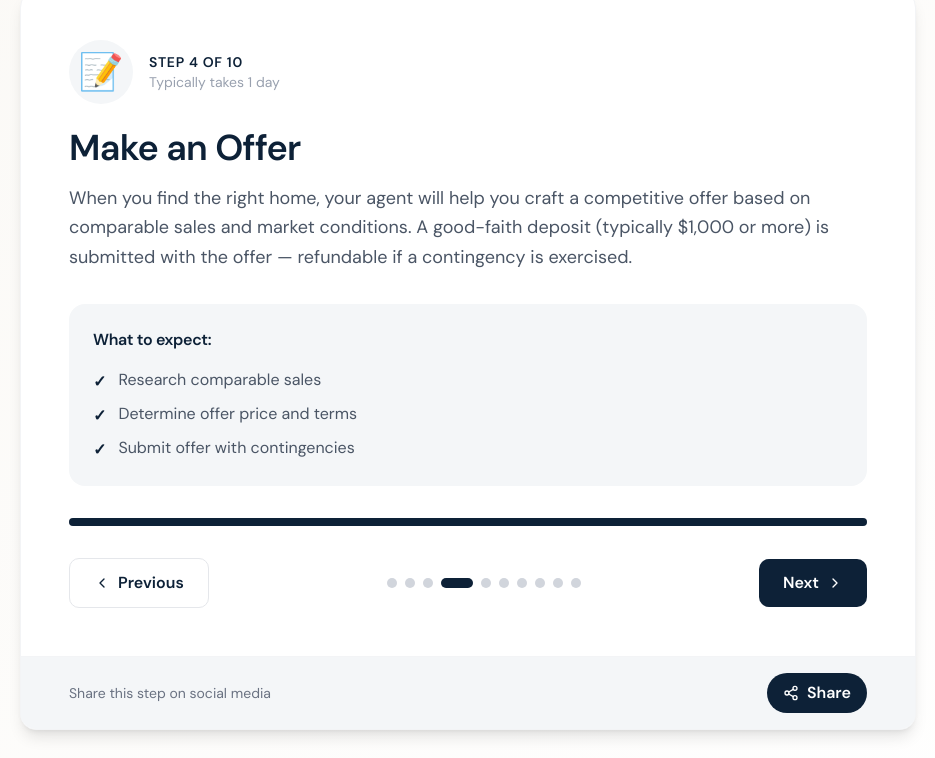
Test case: BuyingProcessGuide › disables Next button on last step
The image size is (935, 758).
Earlier steps of the test are not shown.
(page scrolled)
Click the button "Next" at (813, 583), box [759,559,867,607]
(page scrolled)
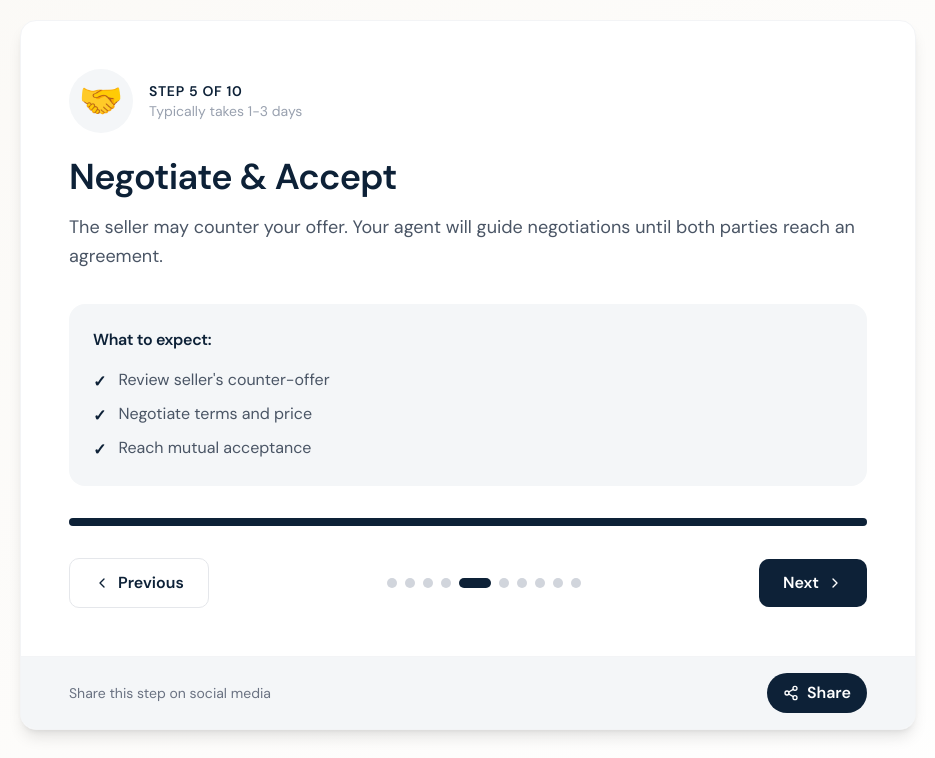
Click the button "Next" at (813, 582), box [759,558,867,606]
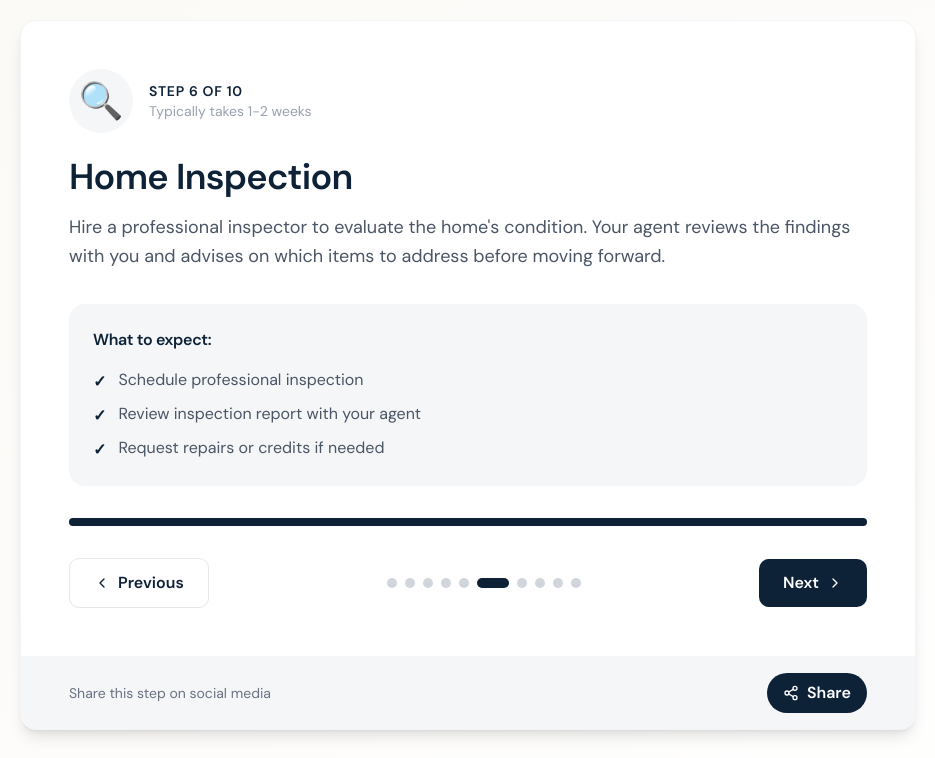
Click the button "Next" at (813, 582), box [759,558,867,606]
(page scrolled)
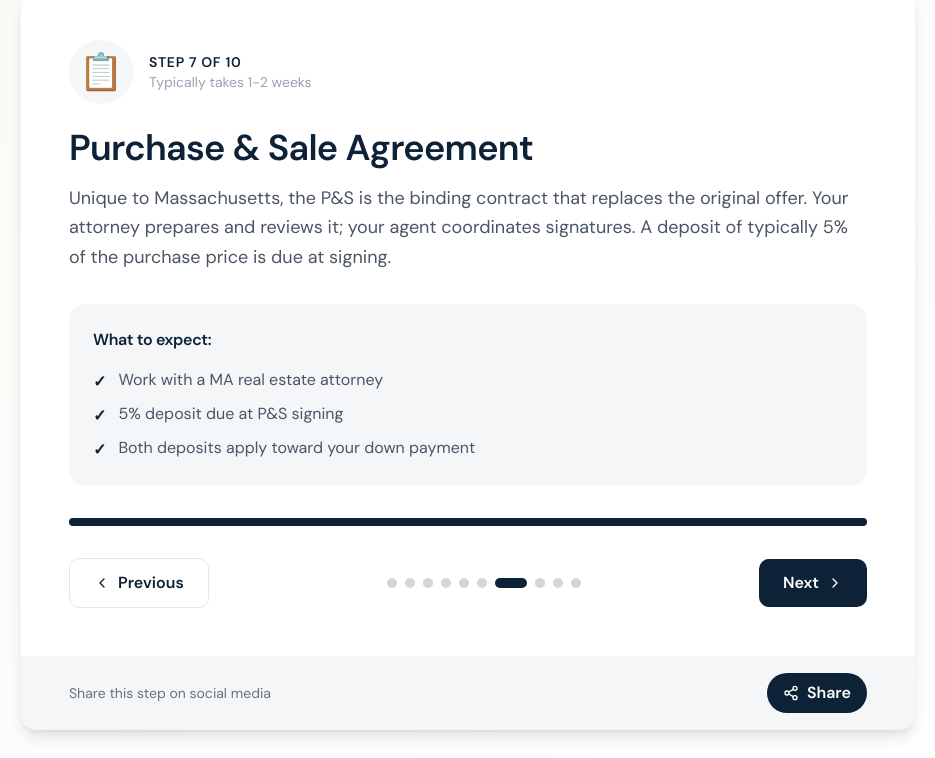
Click the button "Next" at (813, 583), box [759,559,867,607]
(page scrolled)
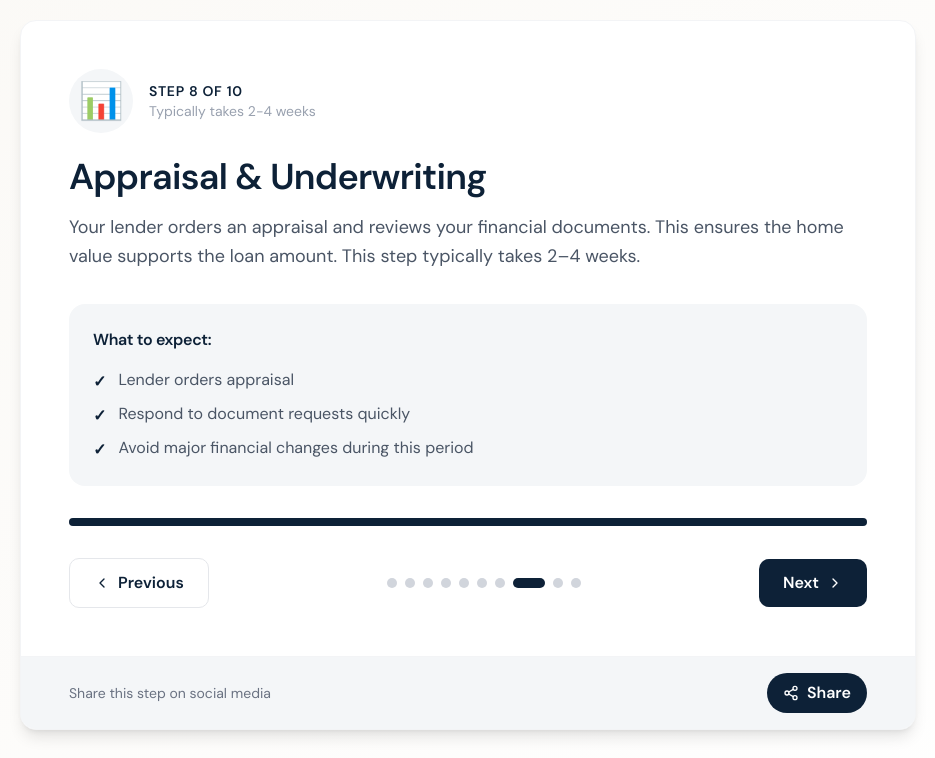
Click the button "Next" at (813, 582), box [759,558,867,606]
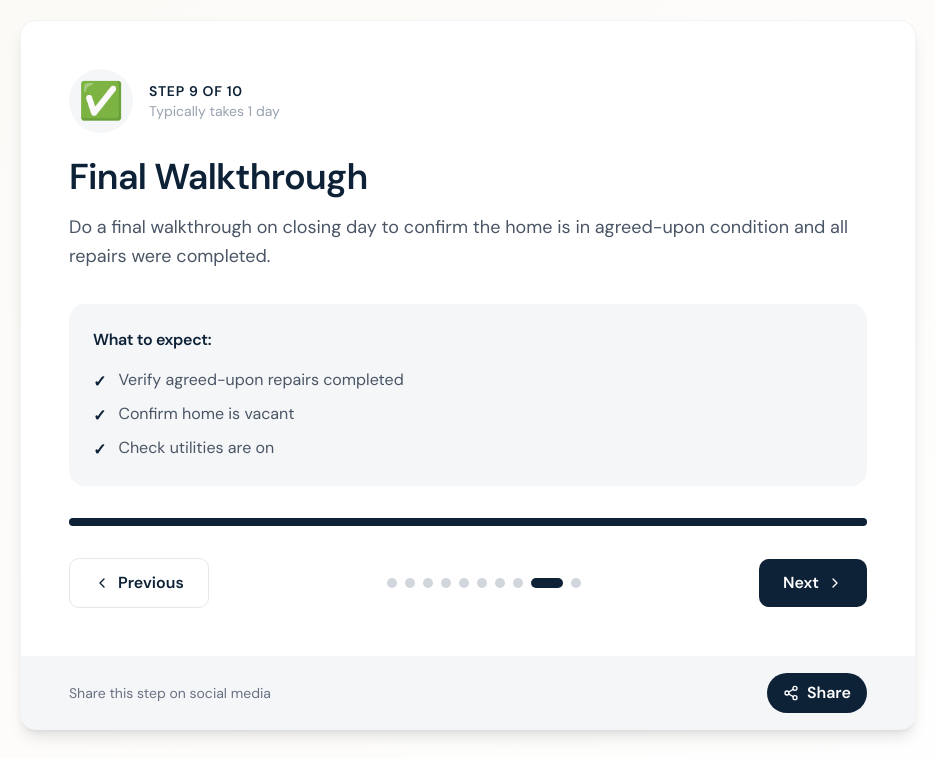
Click the button "Next" at (813, 582), box [759,558,867,606]
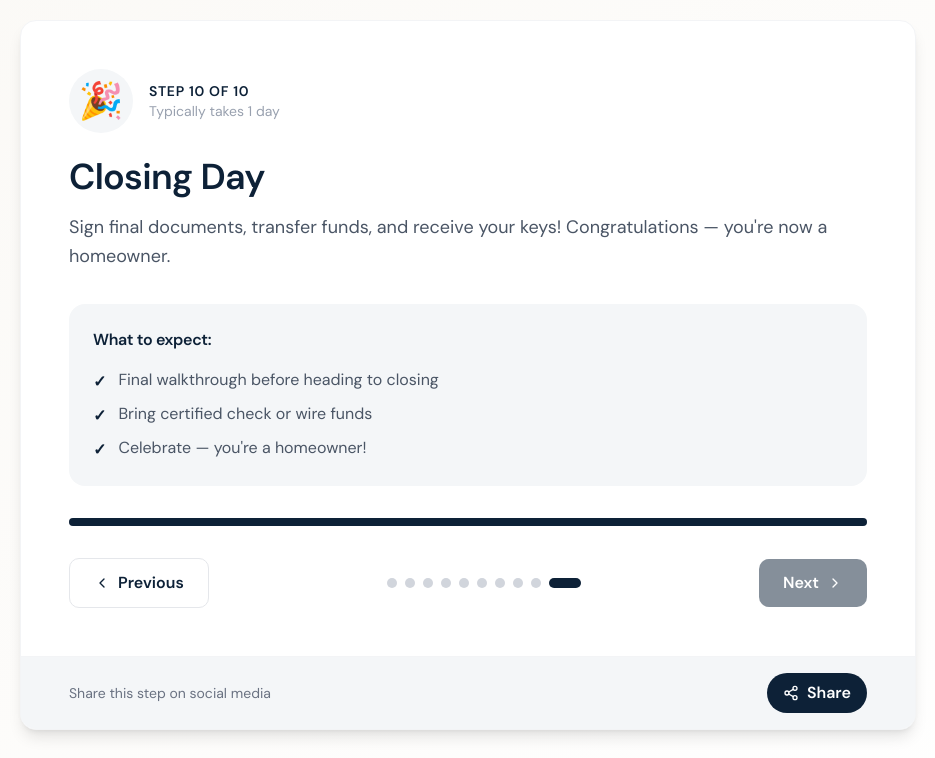
Expected: the heading "Closing Day" is shown, [69,153,265,200]
Expected: the button "Next" is disabled, [759,558,867,606]
